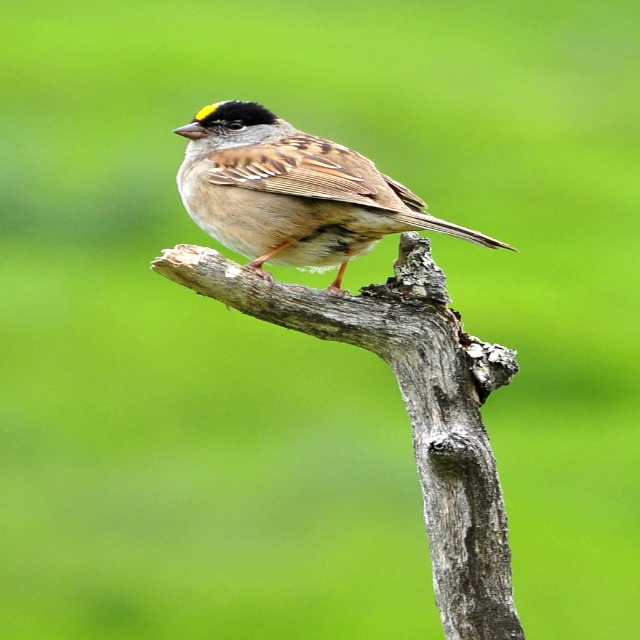Sparrow: (173, 98, 510, 294)
